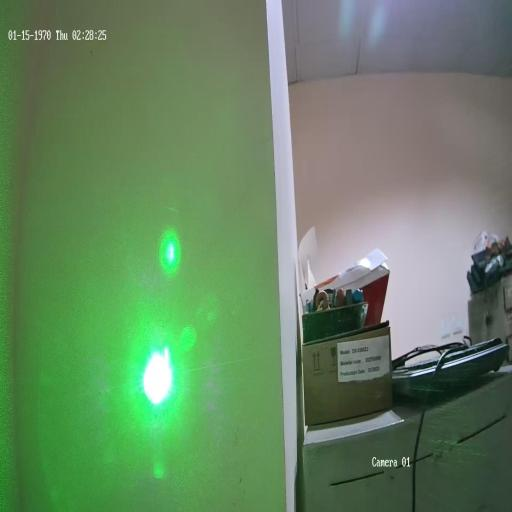laser: (136, 340, 178, 410)
